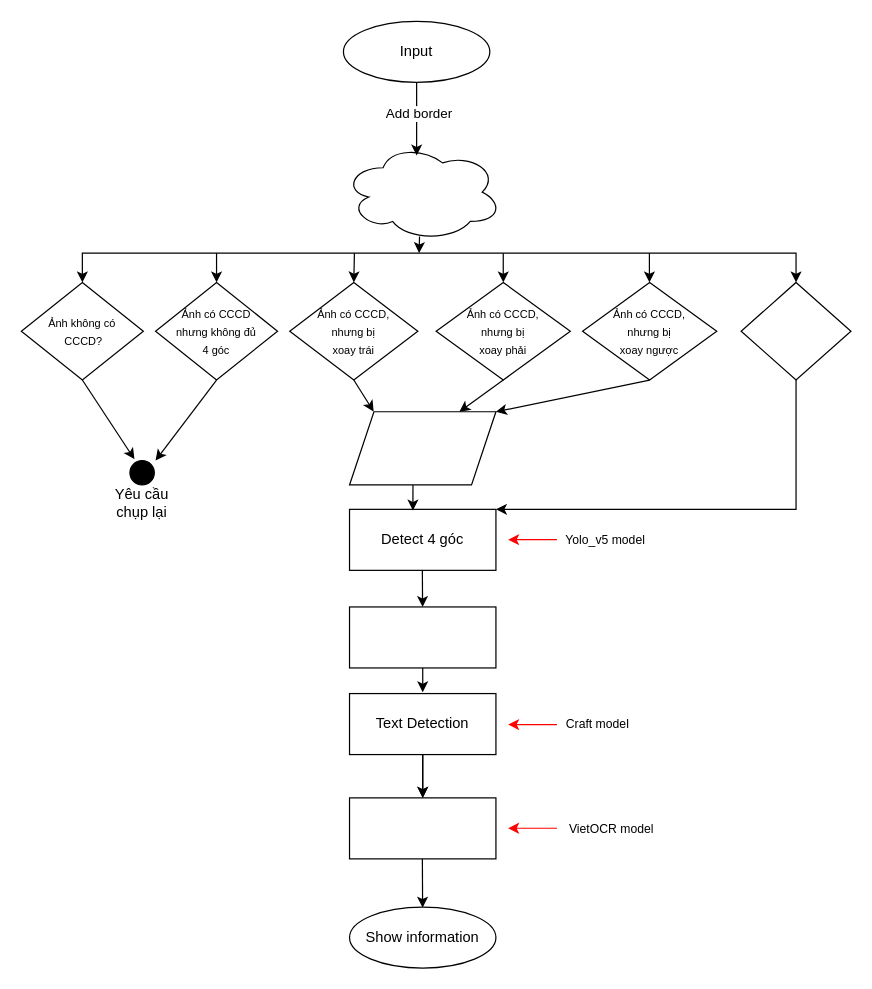
The diagram is 872 pixels wide and 989 high, and some of its shapes have lost their labels. Each missing label, with the centre of its shape:
Model classification input: point (422, 191)
ORC extraction: point (422, 828)
Transform CCCD: point (422, 637)
Xoay ảnh: point (422, 448)
Ảnh có CCCD bình thường: point (795, 330)
